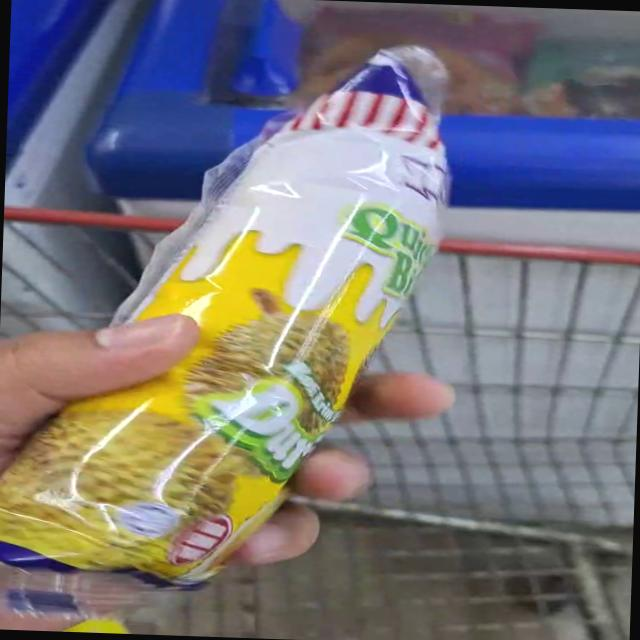Roti: (142, 56, 520, 370), (0, 327, 366, 599)
